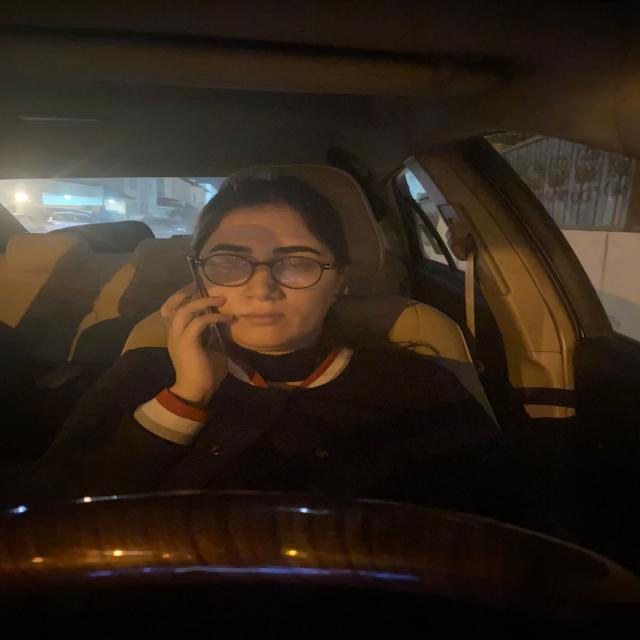person: (194, 178, 362, 362)
